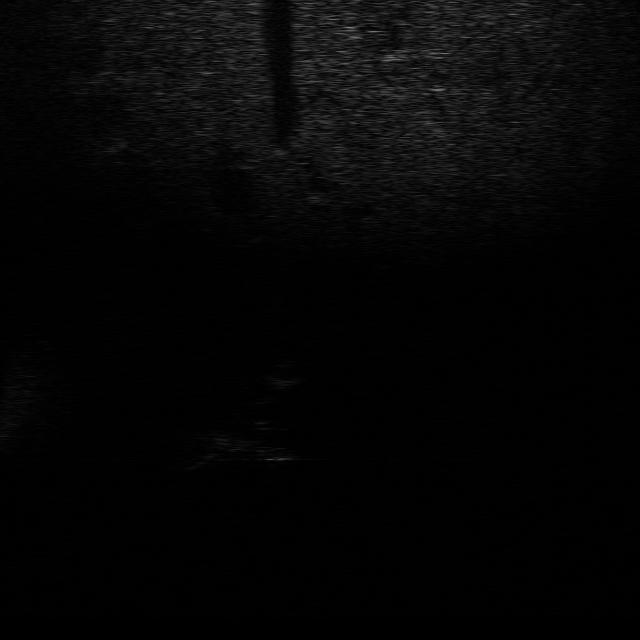ball: (251, 356, 309, 391)
square cage: (178, 430, 252, 473)
tyre: (244, 418, 306, 468)
